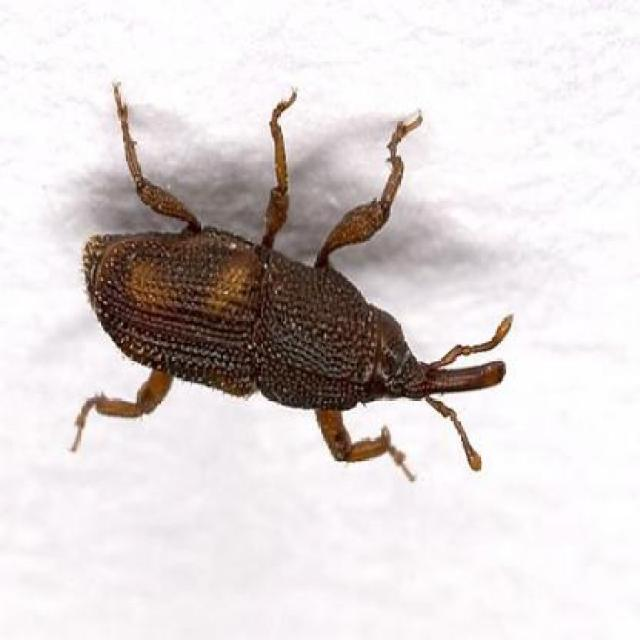rice-bug: (71, 206, 511, 480)
